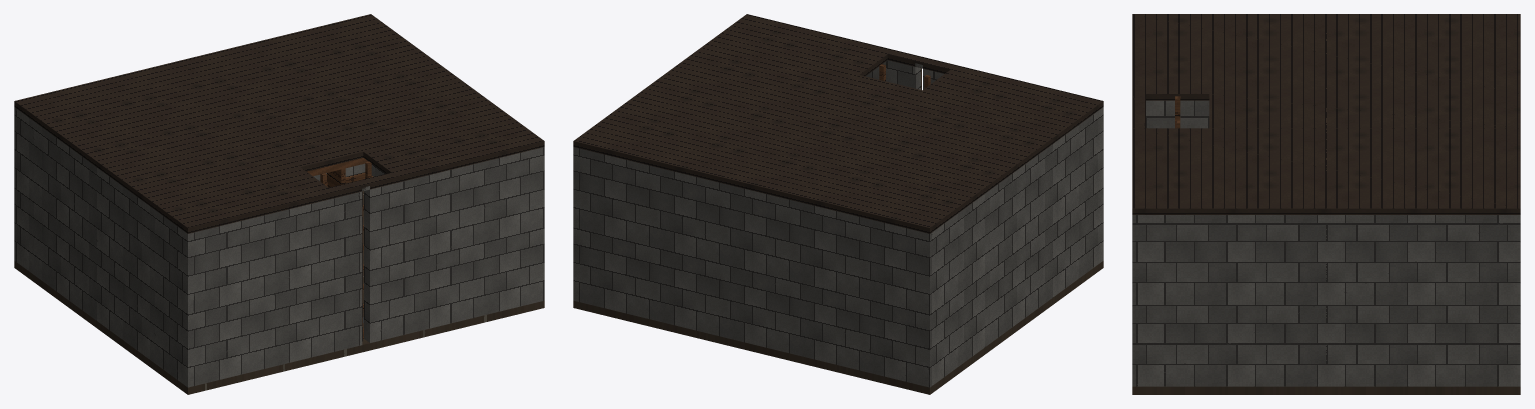
The model's file is porao.glb.
The picture shows the model from 3 angles, left to right: view 1: azimuth 30°, elevation 25°; view 2: azimuth 150°, elevation 25°; view 3: azimuth 270°, elevation 25°; orthographic projection. The views are drawn at different scales.
Visible parts, largest first — view 1: sala-col, teto-col; view 2: sala-col, teto-col; view 3: teto-col, sala-col.
Part boxes in pixels (box(x1,y1,x2,y2)): sala-col: box(14, 107, 544, 394); teto-col: box(14, 14, 544, 233); sala-col: box(573, 60, 1103, 394); teto-col: box(573, 14, 1103, 233); teto-col: box(1132, 14, 1520, 214); sala-col: box(1132, 100, 1520, 394).
Size of the model in its own units: 5.1 by 2.3 by 4.3.
12 materials, 12 textured.
